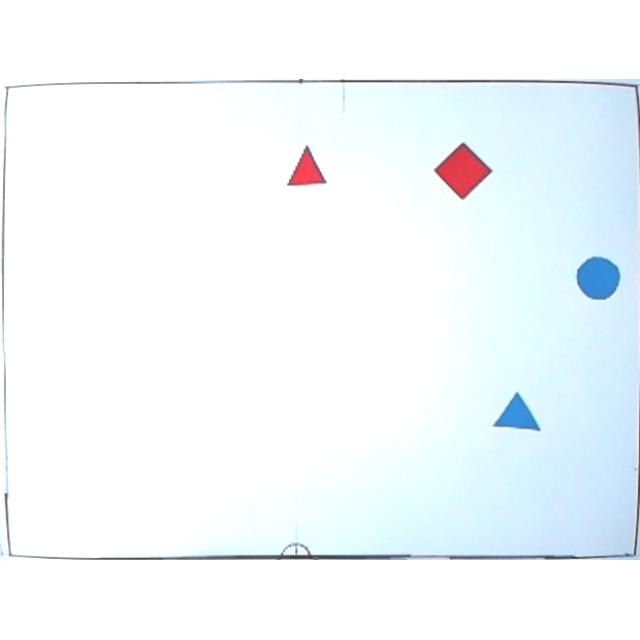blueCircle: (573, 257, 621, 303)
blueTriangle: (491, 390, 542, 436)
redSquare: (432, 142, 492, 202)
redTriangle: (286, 144, 326, 188)
